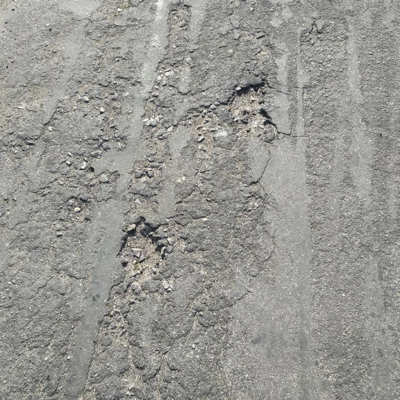pothole: (117, 215, 168, 282), (227, 78, 277, 140)
